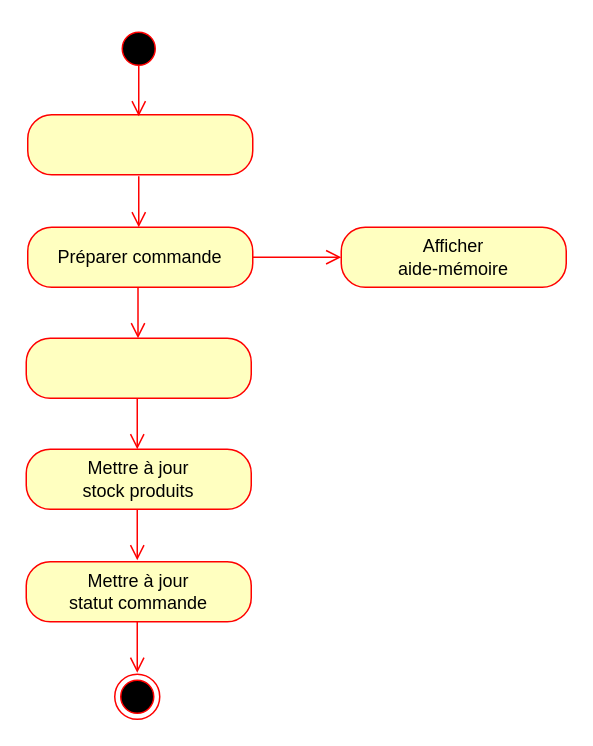
The diagram is 593 pixels wide and 746 high, and some of its shapes have lost their labels. The centre of each missing label's shape, as x and y in pixels:
Commande terminée: the point at 138,367
Receptionner commande: the point at 139,144
